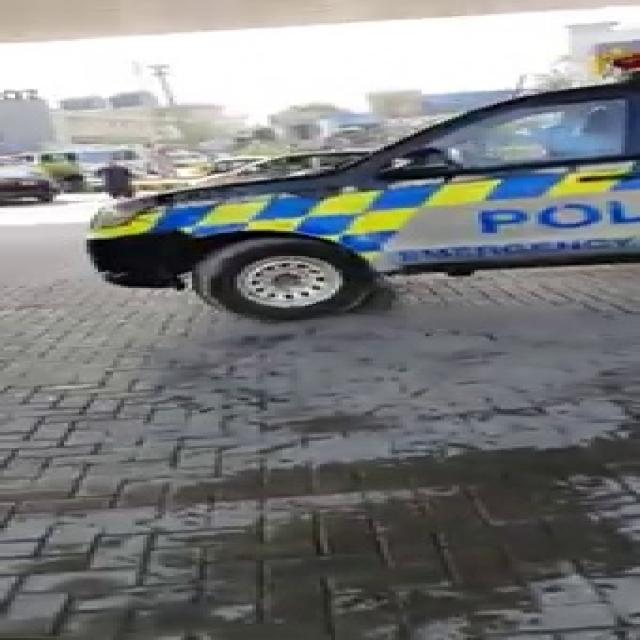police: (51, 22, 640, 300)
